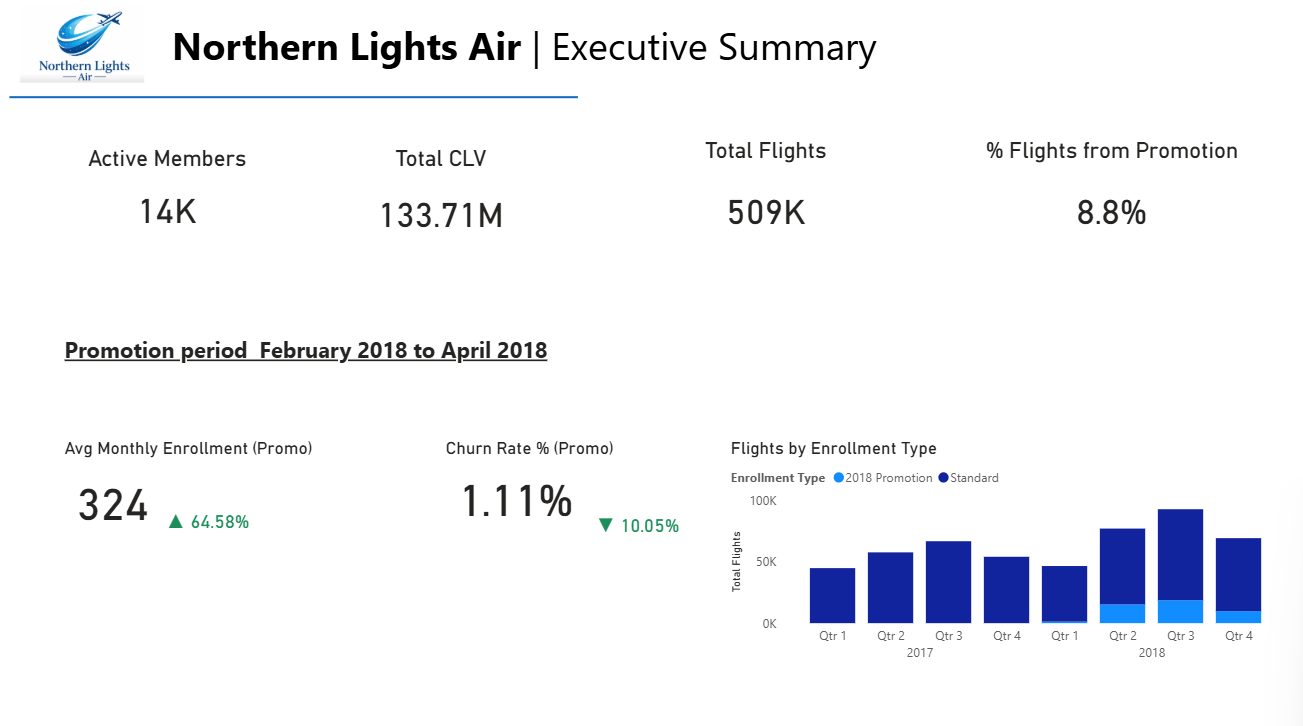

This screenshot's page, from the dashboard's own definition file:
{"tool":"powerbi","page":{"name":"Executive Summary","canvas":[1280,720],"ordinal":1},"visuals":[{"type":"shape","box":[12.5,27.5,556.4,150],"z":0},{"type":"textbox","box":[166,20.9,1012,66.1],"z":1},{"type":"image","box":[0,6.3,166.3,86.3],"z":2},{"type":"card","title":"Total CLV","fields":{"Values":["Measure Table.Total CLV"]},"box":[321.6,149.2,225,106.4],"z":3},{"type":"card","title":"Active Members","fields":{"Values":["Measure Table.# Active Members"]},"box":[53.8,149.2,225,99],"z":4},{"type":"card","title":"Total Flights","fields":{"Values":["Measure Table.Total Flights"]},"box":[639.5,141.8,225,114.9],"z":5},{"type":"card","title":"% Flights from Promotion","fields":{"Values":["Measure Table.Flights from Promotion %"]},"box":[941.6,141.8,298.4,114.9],"z":6},{"type":"cardVisual","title":"Avg Monthly Enrollment (Promo)","fields":{"Data":["Measure Table.Avg Monthly Enrollment (Selected)"]},"box":[61.1,435.3,293.5,101.5],"z":7},{"type":"cardVisual","fields":{"Data":["Measure Table.Enrollment vs PrePromo Label"]},"box":[148,495.2,119.8,34.2],"z":8},{"type":"cardVisual","title":"Churn Rate % (Promo)","fields":{"Data":["Measure Table.Churn Rate % (Promo)"]},"box":[434.1,435.3,178.5,94.2],"z":9},{"type":"cardVisual","fields":{"Data":["Measure Table.Churn vs PrePromo Label"]},"box":[568.6,496.5,121.1,40.4],"z":10},{"type":"textbox","box":[61.1,328.9,507.5,61.1],"z":11},{"type":"columnChart","title":"Flights by Enrollment Type","fields":{"Y":["Measure Table.Total Flights"],"Category":["Dim_Date.Start of Month.Variation.Date Hierarchy.Year","Dim_Date.Start of Month.Variation.Date Hierarchy.Quarter"],"Series":["Dim_Customer.Enrollment Type"]},"box":[712.9,435.3,552.7,232.3],"z":12}]}

Visuals, with their boxes in screenshot pixels (x1, y1, x2, y2), scaled from the page's 1280x720 canvas onto the 1303x726 screenshot:
shape: box=[13, 28, 579, 179]
textbox: box=[169, 21, 1199, 88]
image: box=[0, 6, 169, 93]
"Total CLV" card: box=[327, 150, 556, 258]
"Active Members" card: box=[55, 150, 284, 250]
"Total Flights" card: box=[651, 143, 880, 259]
"% Flights from Promotion" card: box=[959, 143, 1262, 259]
"Avg Monthly Enrollment (Promo)" cardVisual: box=[62, 439, 361, 541]
cardVisual - Measure Table.Enrollment vs PrePromo Label: box=[151, 499, 273, 534]
"Churn Rate % (Promo)" cardVisual: box=[442, 439, 624, 534]
cardVisual - Measure Table.Churn vs PrePromo Label: box=[579, 501, 702, 541]
textbox: box=[62, 332, 579, 393]
"Flights by Enrollment Type" columnChart: box=[726, 439, 1288, 673]
